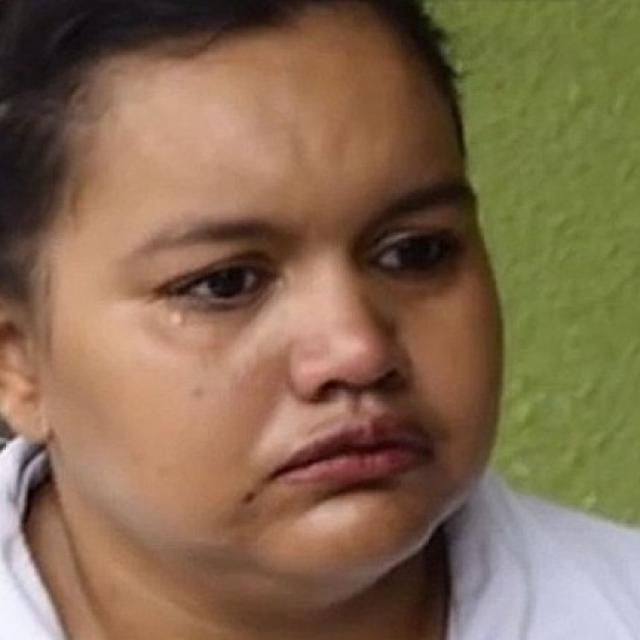Depress: (38, 10, 507, 607)
